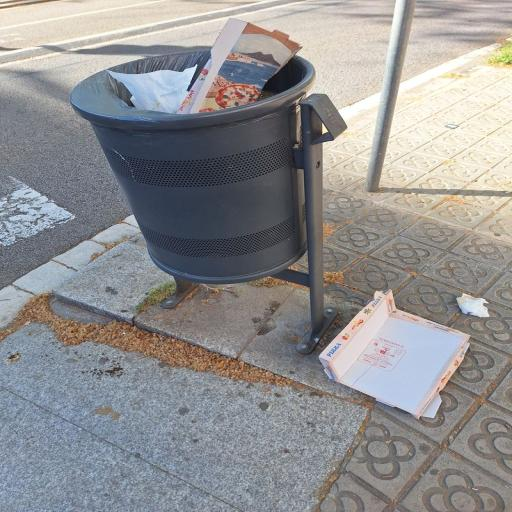construction_fence: (0, 0, 307, 64), (0, 216, 140, 329), (399, 44, 500, 94)
phone: (366, 0, 415, 192)
shelf: (0, 66, 511, 511)
traffic_light: (71, 56, 346, 351), (71, 57, 314, 283)
